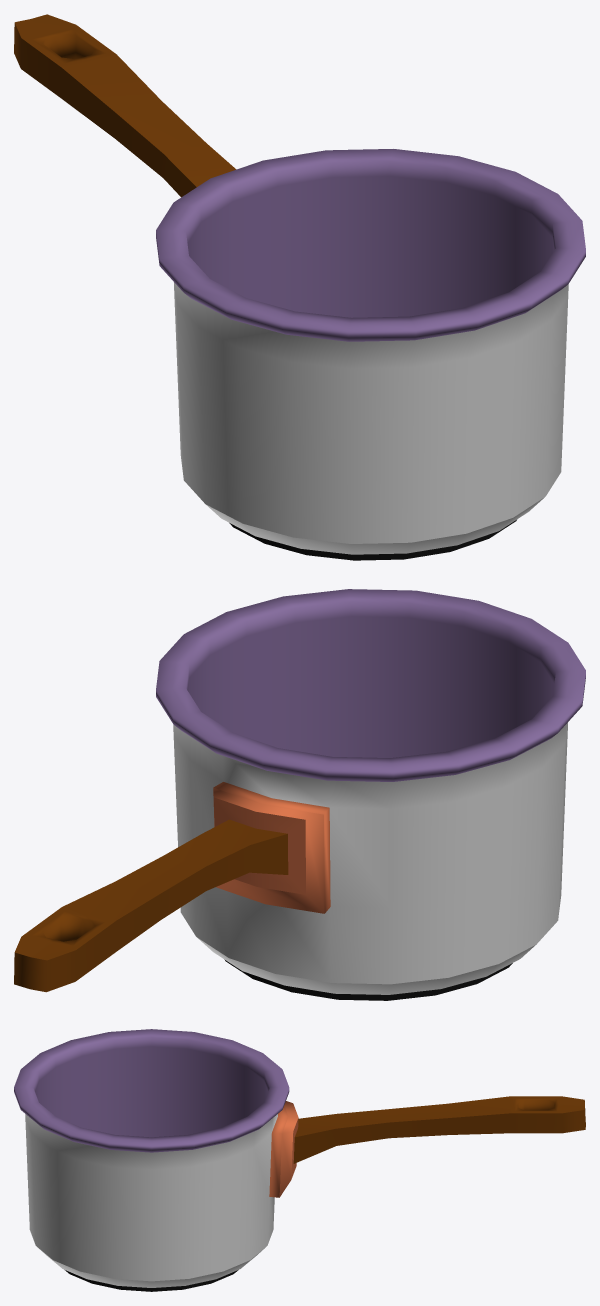
The model's file is Kastrull_mässing_utanlock_.fbx.
3 views of the same model, one above another, from view 1: azimuth 30°, elevation 25°; view 2: azimuth 150°, elevation 25°; view 3: azimuth 270°, elevation 25° (orthographic). The views are drawn at different scales.
Parts seen in each view (by area): view 1: file1; view 2: file1; view 3: file1.
Part boxes in pixels (x1,y1,x2,y2): file1: (14, 14, 585, 560); file1: (14, 589, 585, 1000); file1: (14, 1029, 585, 1291).
Bounding box in the file's own units: 251 × 163 × 522.
